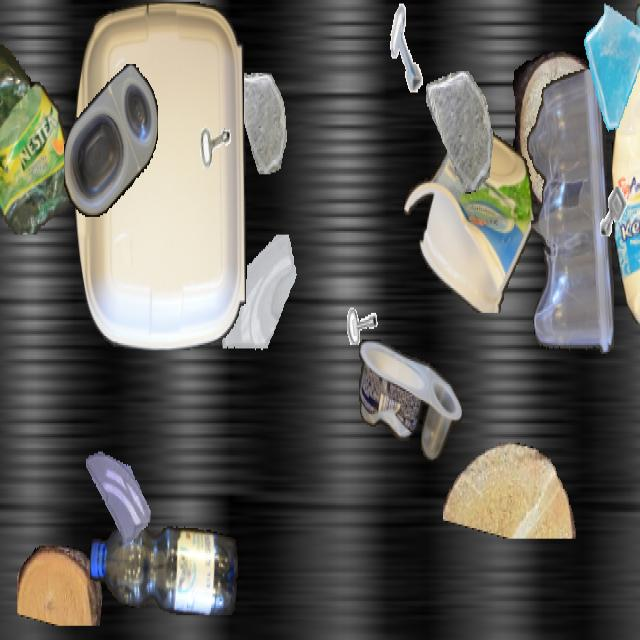glass: (220, 234, 302, 380), (426, 71, 494, 192), (580, 2, 640, 133), (86, 441, 150, 555), (232, 73, 288, 172)
metal: (181, 73, 241, 179), (382, 2, 434, 94), (337, 265, 381, 343), (592, 174, 634, 249), (630, 271, 640, 374)
plastic: (74, 2, 246, 350), (524, 69, 614, 361), (404, 124, 534, 313), (0, 21, 74, 235), (64, 64, 158, 217), (90, 519, 238, 615), (359, 340, 461, 460), (612, 2, 640, 325)
wood: (510, 52, 606, 212), (443, 442, 579, 538), (17, 546, 103, 624)
